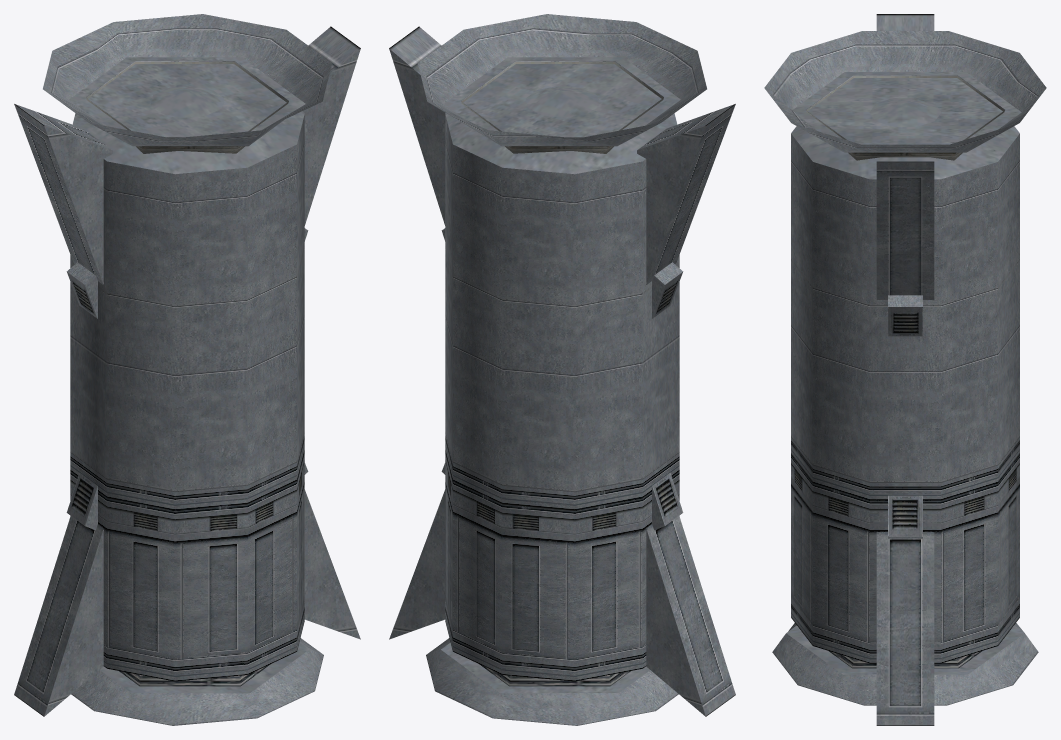
The model's file is poi_all_impl_bunker_pillar_s04_l1.fbx.
3 renders of one model, left to right at view 1: azimuth 30°, elevation 25°; view 2: azimuth 150°, elevation 25°; view 3: azimuth 270°, elevation 25°, orthographic. The views are drawn at different scales.
Parts seen in each view (by area): view 1: mesh_node; view 2: mesh_node; view 3: mesh_node.
Boxes of the visible parts, x1,y1,x2,y2 form: mesh_node: (14, 14, 360, 725); mesh_node: (389, 14, 735, 725); mesh_node: (764, 14, 1046, 725).
Size of the model in its own units: 3.04 by 5.43 by 2.46.
